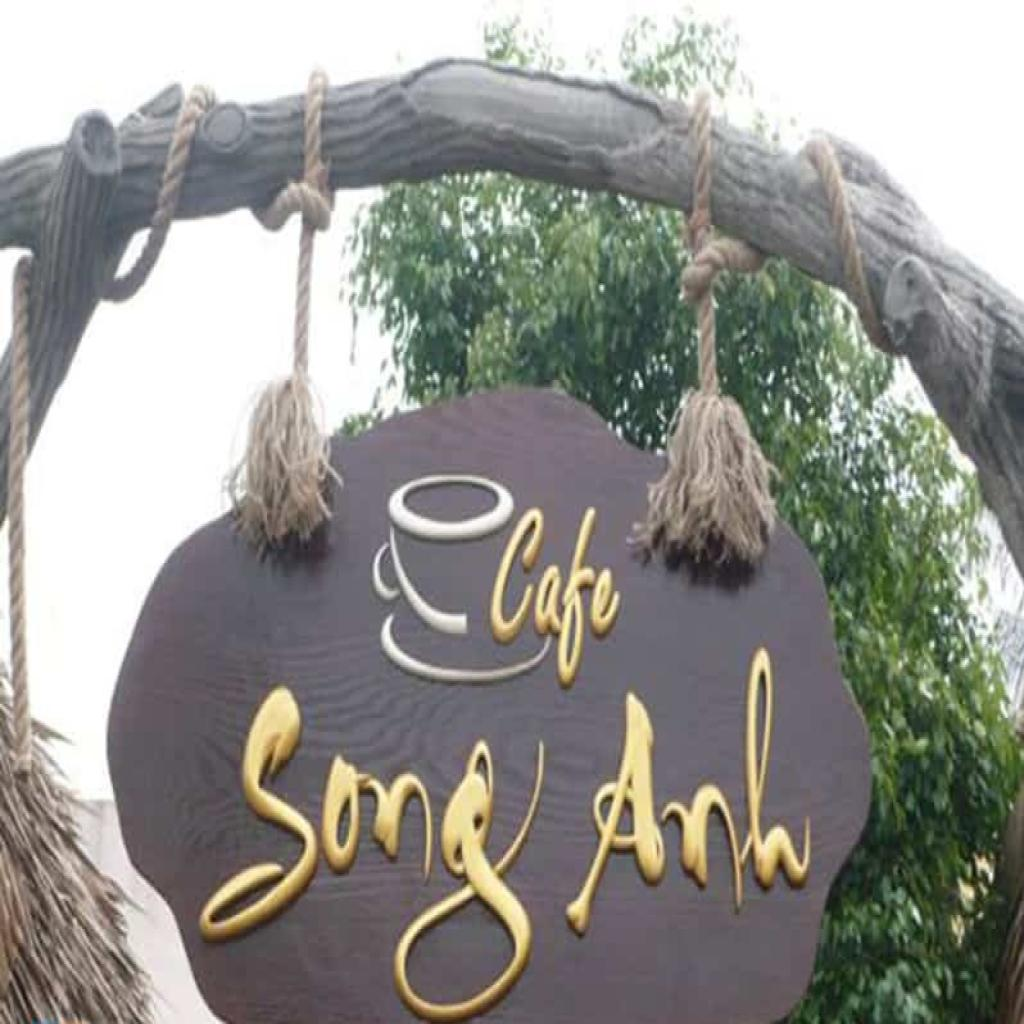text: (173, 661, 555, 1024), (483, 501, 626, 690)
